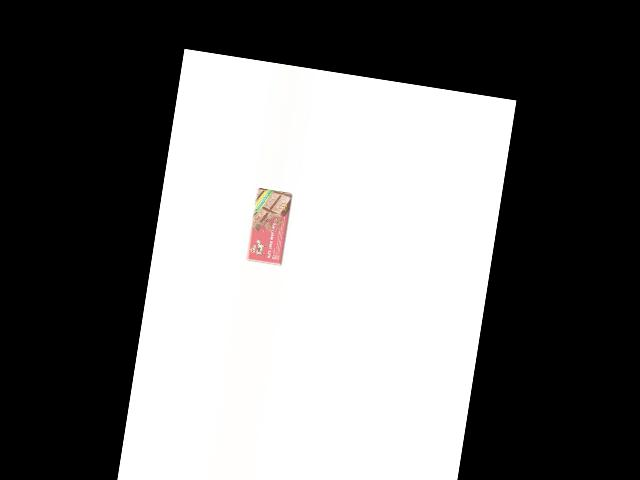chocolate: (244, 187, 294, 267)
